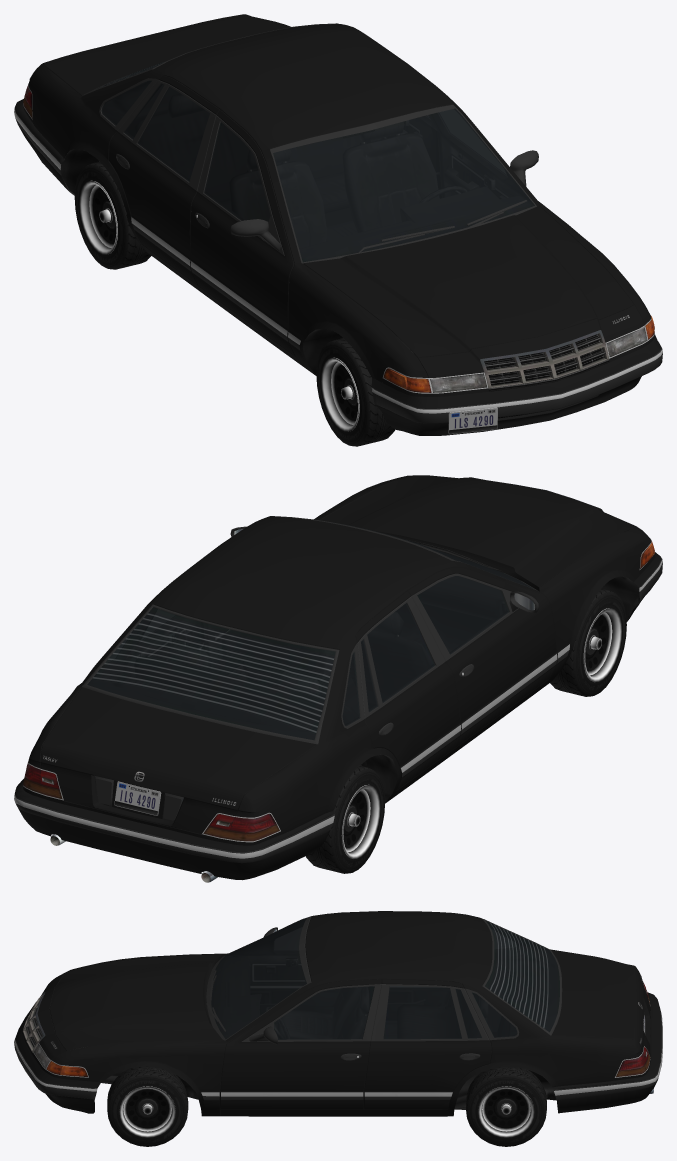
The model's file is illinois-90-low-poly-model-d60487.glb.
3 views of the same model, one above another, from view 1: azimuth 30°, elevation 25°; view 2: azimuth 150°, elevation 25°; view 3: azimuth 270°, elevation 25° (orthographic). The views are drawn at different scales.
Visible parts, largest first — view 1: body, wheel-front-right, wheel-back-right; view 2: body, wheel-back-right, wheel-front-right; view 3: body, wheel-back-left, wheel-front-left.
Boxes of the visible parts, <box> form: body: <box>14,14,662,435</box>; wheel-front-right: <box>316,338,395,446</box>; wheel-back-right: <box>25,90,151,269</box>; body: <box>14,475,662,882</box>; wheel-back-right: <box>209,765,385,873</box>; wheel-front-right: <box>550,588,626,696</box>; body: <box>14,911,662,1116</box>; wheel-back-left: <box>466,1047,647,1146</box>; wheel-front-left: <box>107,1066,188,1146</box>.
Size of the model in its own units: 2.09 by 1.43 by 5.17.
8 materials, 7 textured.
